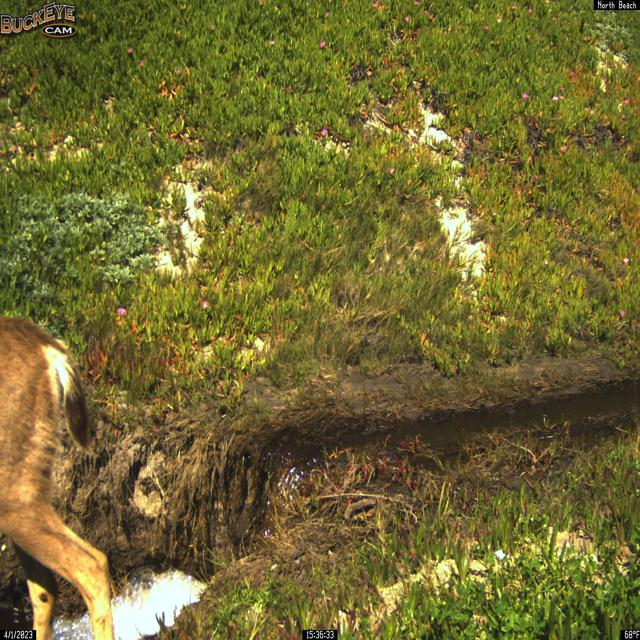deer: (0, 312, 124, 640)
